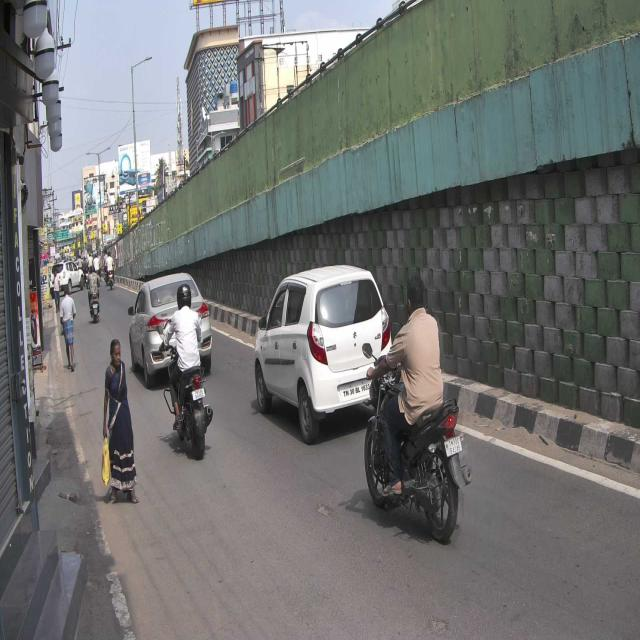single_rider: (364, 272, 473, 544), (159, 282, 216, 462)
